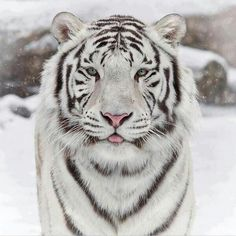Tigrew: (39, 7, 204, 189)
